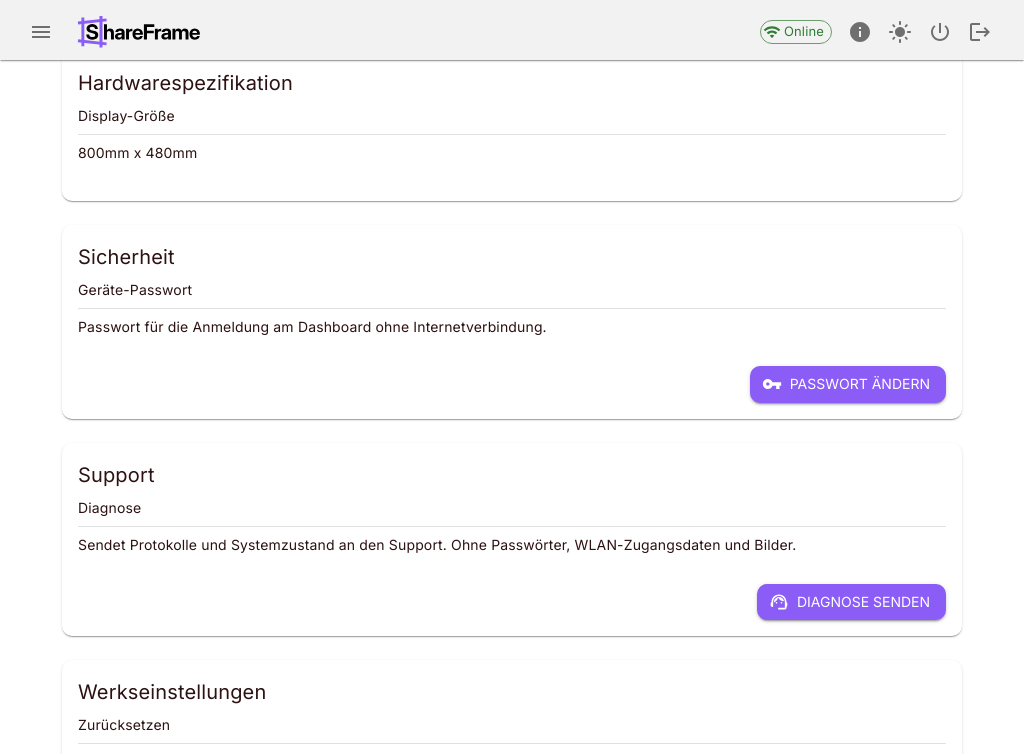
Test: device password › changes the password
(page scrolled)
Click the button "Passwort ändern" at (848, 384), box [750,366,946,403]
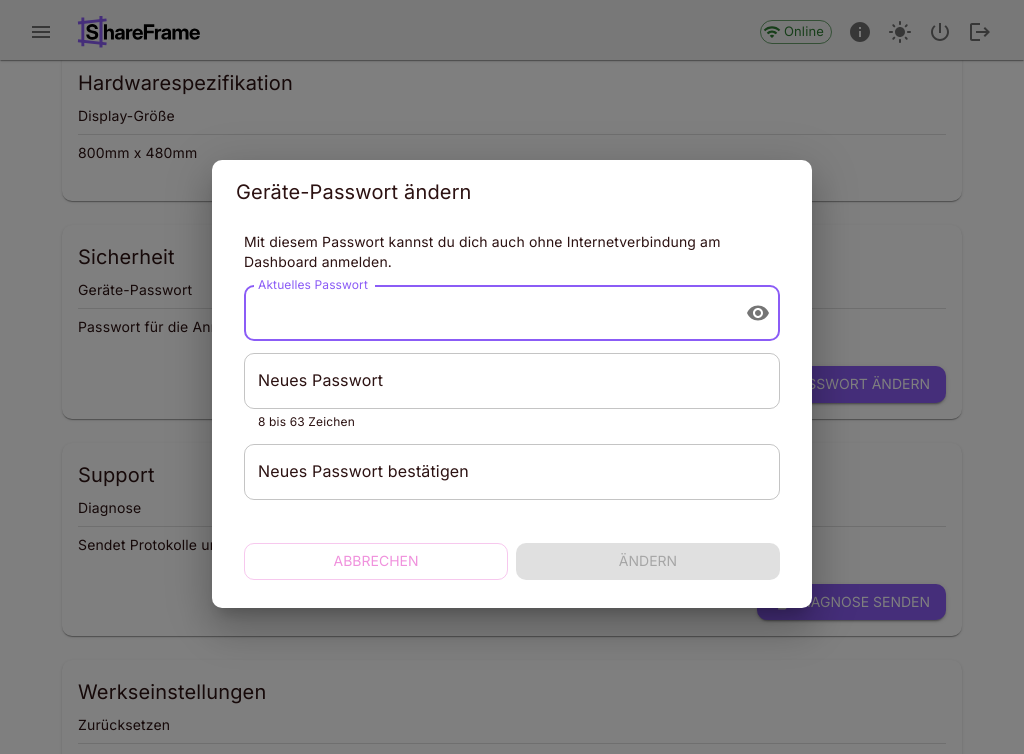
Type "oldpassword" into the password field labelled "Aktuelles Passwort" at (487, 313), box [244,285,730,341]
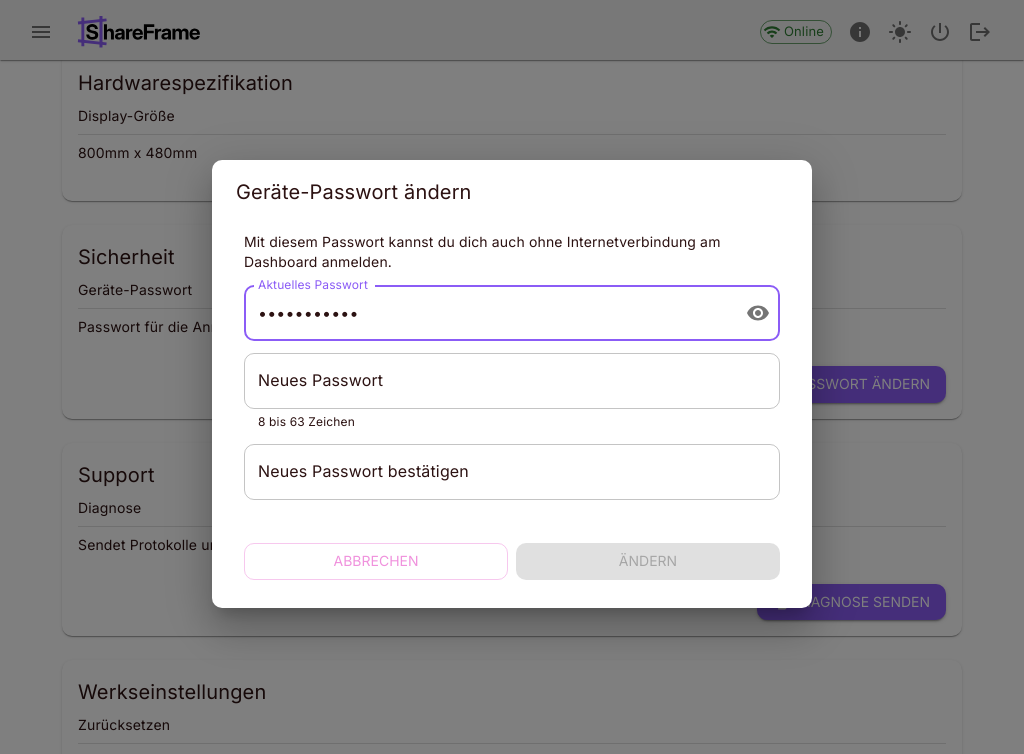
Type "newpassword" into the password field labelled "Neues Passwort" at (512, 381), box [244,353,780,409]
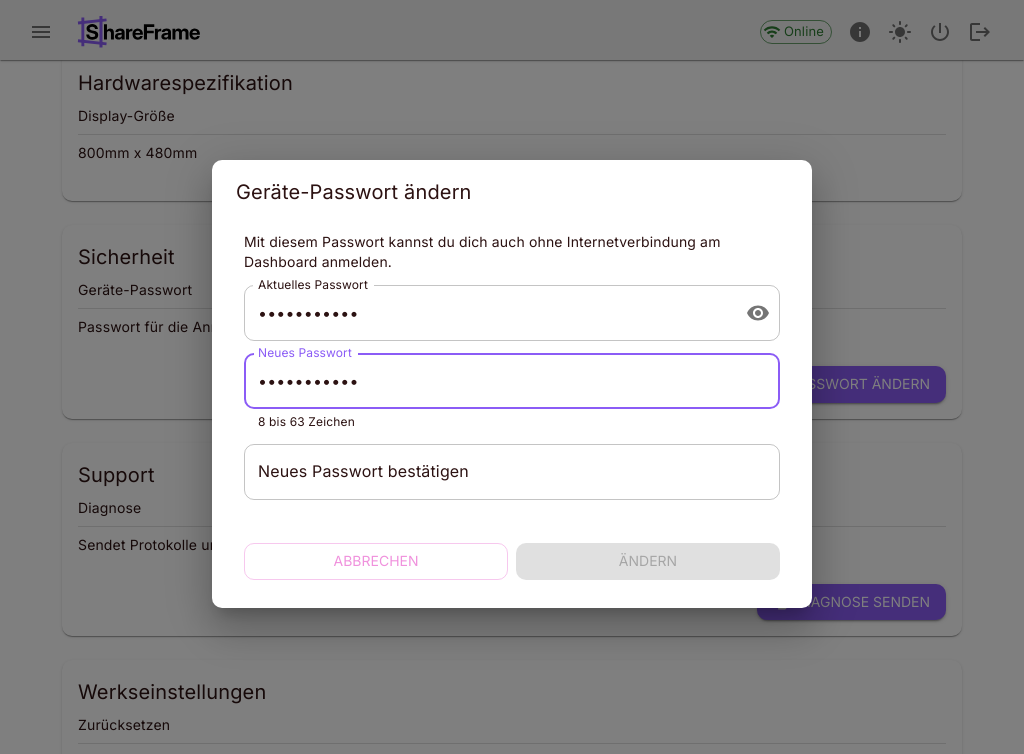
Type "newpassword" into the password field labelled "Neues Passwort bestätigen" at (512, 472), box [244,444,780,500]
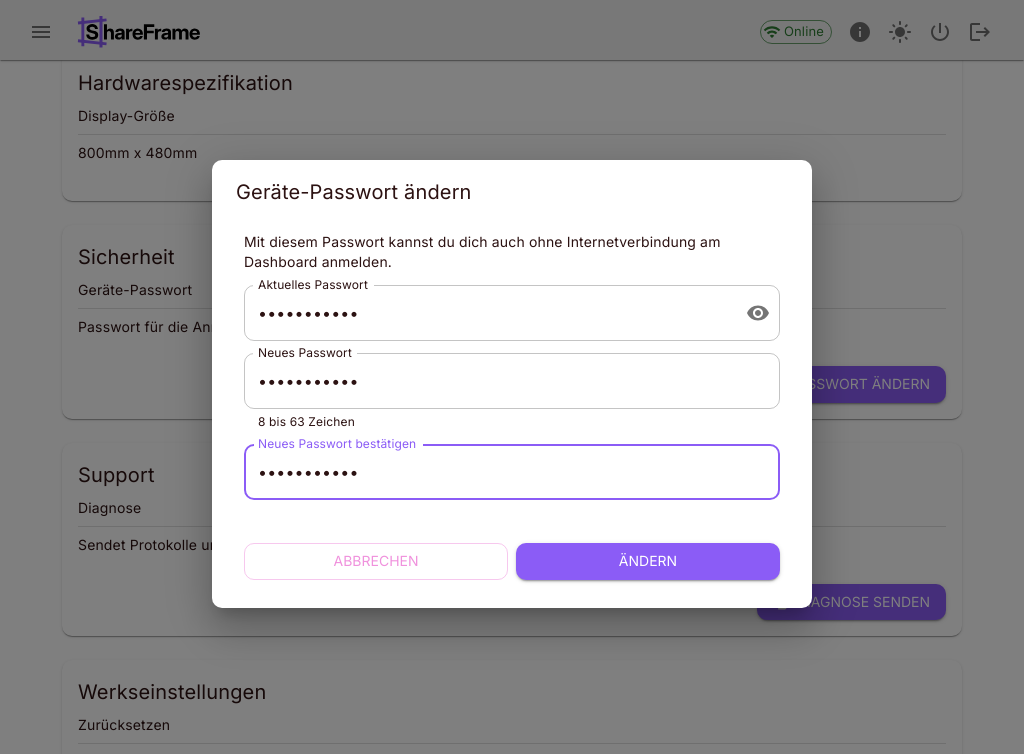
Click the button "Ändern" at (648, 561), box [516,543,780,580]
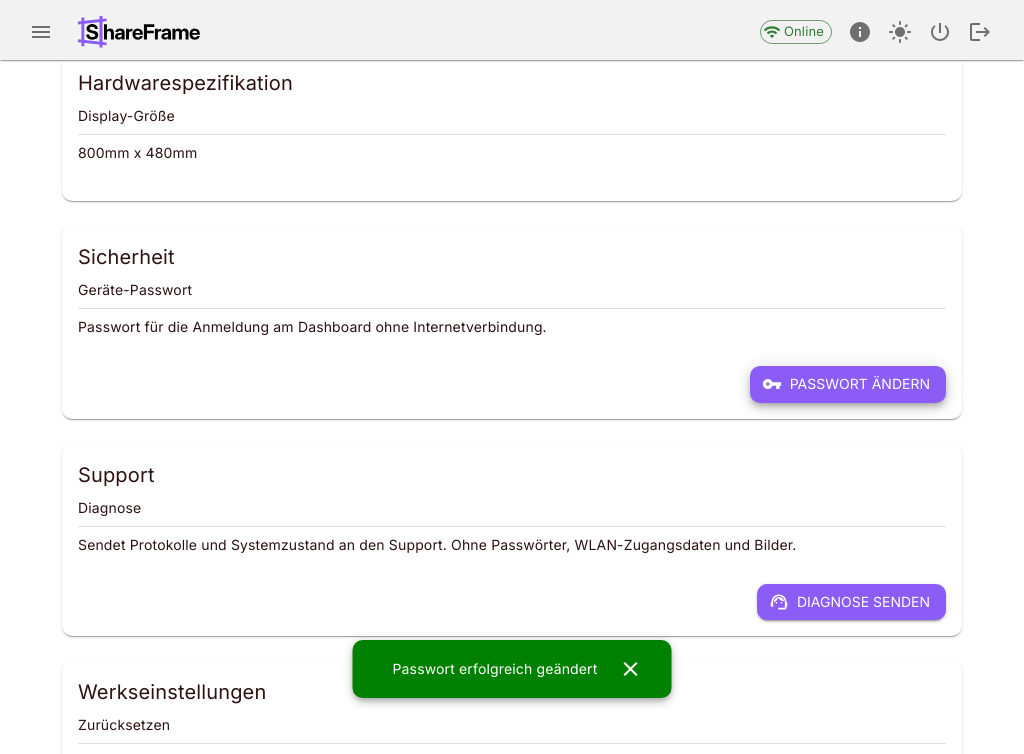
Now the heading "Passwort erfolgreich geändert" is shown, box [392,658,598,680]
Now the dialog is gone
